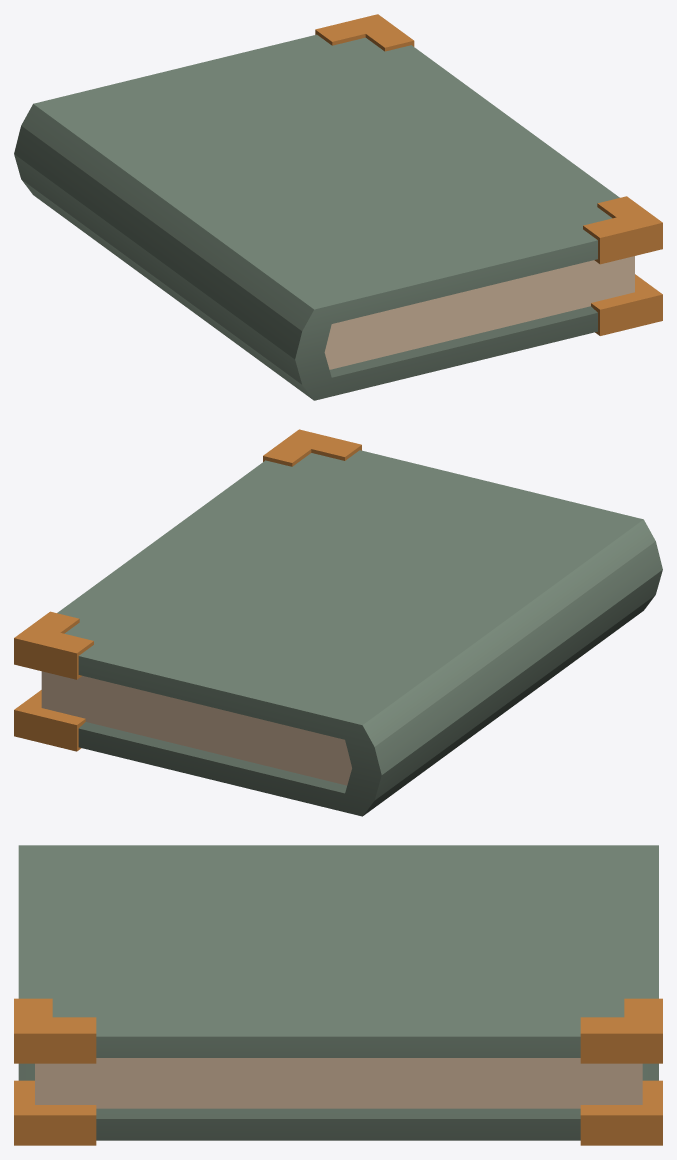
File: Book_06.fbx
3 views of the same model, one above another, from view 1: azimuth 30°, elevation 25°; view 2: azimuth 150°, elevation 25°; view 3: azimuth 270°, elevation 25° (orthographic). The views are drawn at different scales.
Parts seen in each view (by area): view 1: Book_06; view 2: Book_06; view 3: Book_06.
Part boxes in pixels (bbox=[...]): Book_06: bbox=[14, 14, 662, 400]; Book_06: bbox=[14, 429, 662, 816]; Book_06: bbox=[14, 845, 662, 1145].
Bounding box in the file's own units: 20.29 × 5.2 × 27.38.
